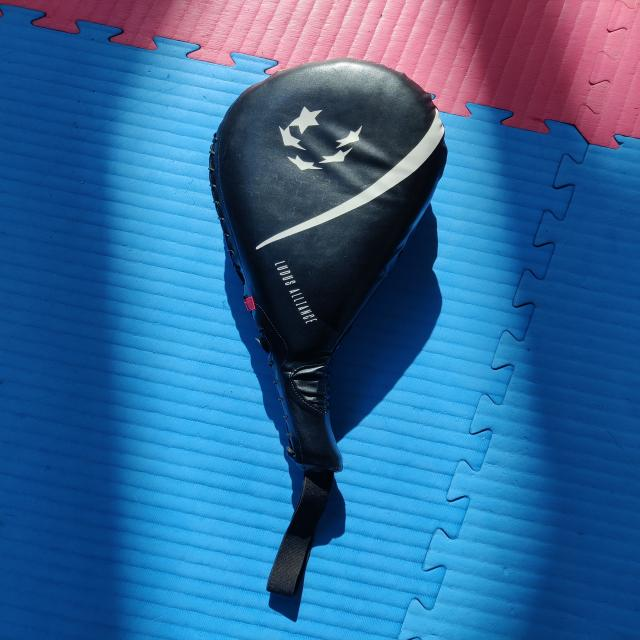paddle: (205, 53, 451, 474)
